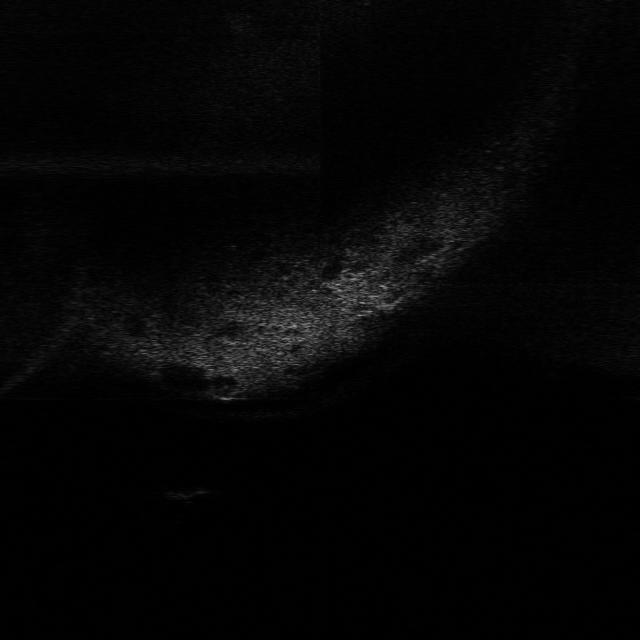cube: (154, 478, 213, 505)
